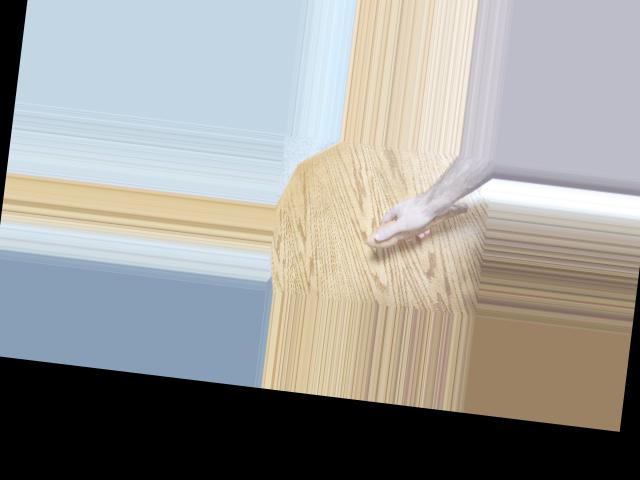sweet_potato: (364, 189, 485, 261)
